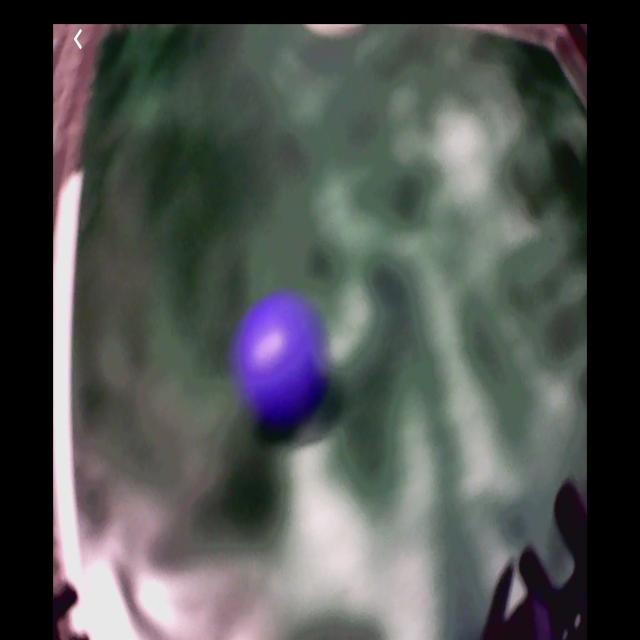ball: (236, 294, 329, 429)
